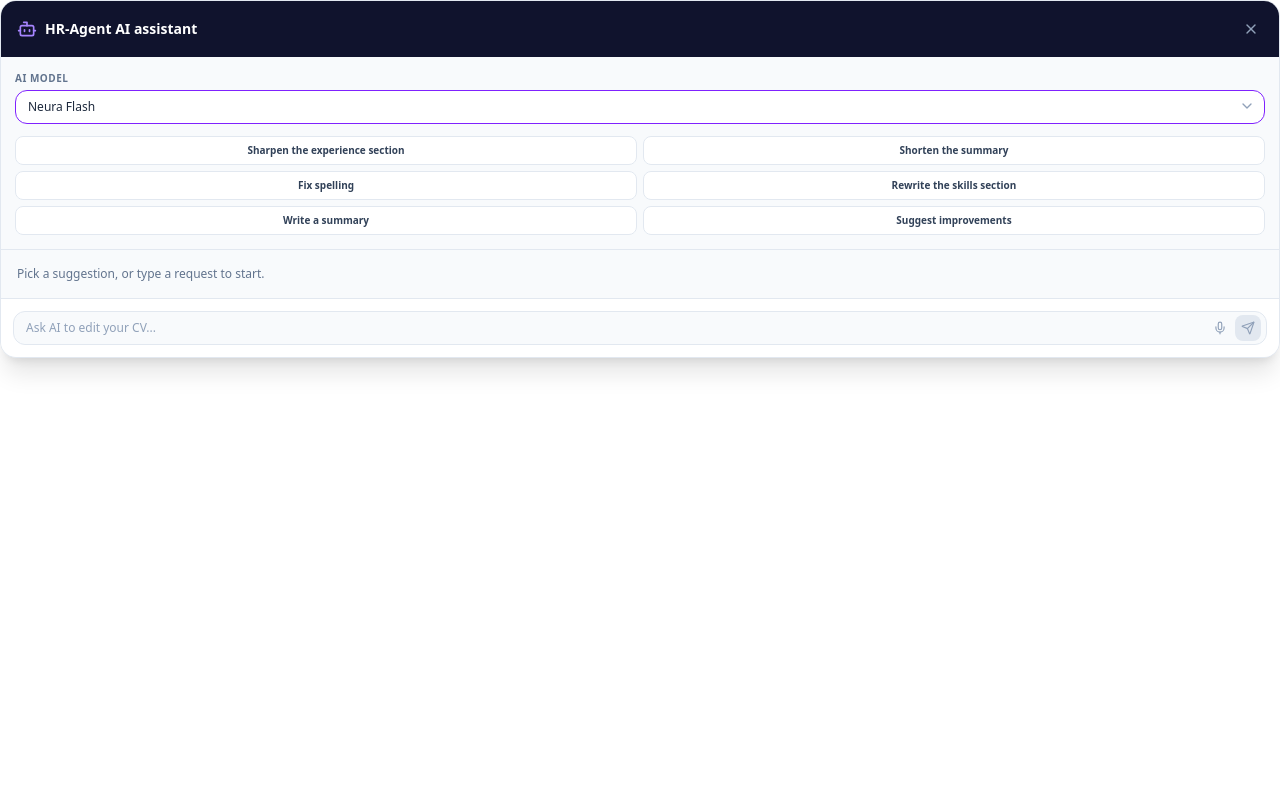
Scenario: trạng thái đang tải, lỗi và rỗng › trợ lý AI lúc hỏi lại và lúc lỗi
Click the button "Write a summary".
click(326, 220)  # box [15, 206, 637, 235]
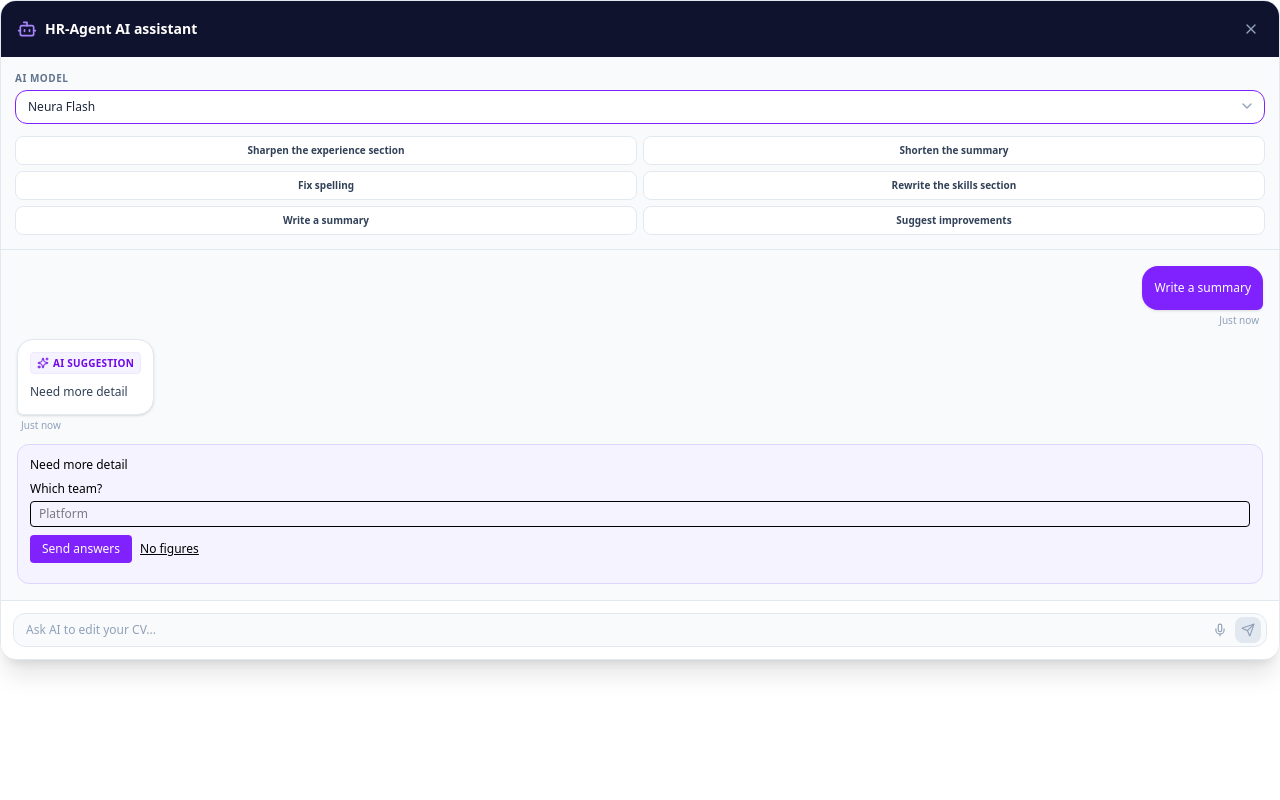
Now the button "Send answers" is shown, box [30, 535, 132, 563]
